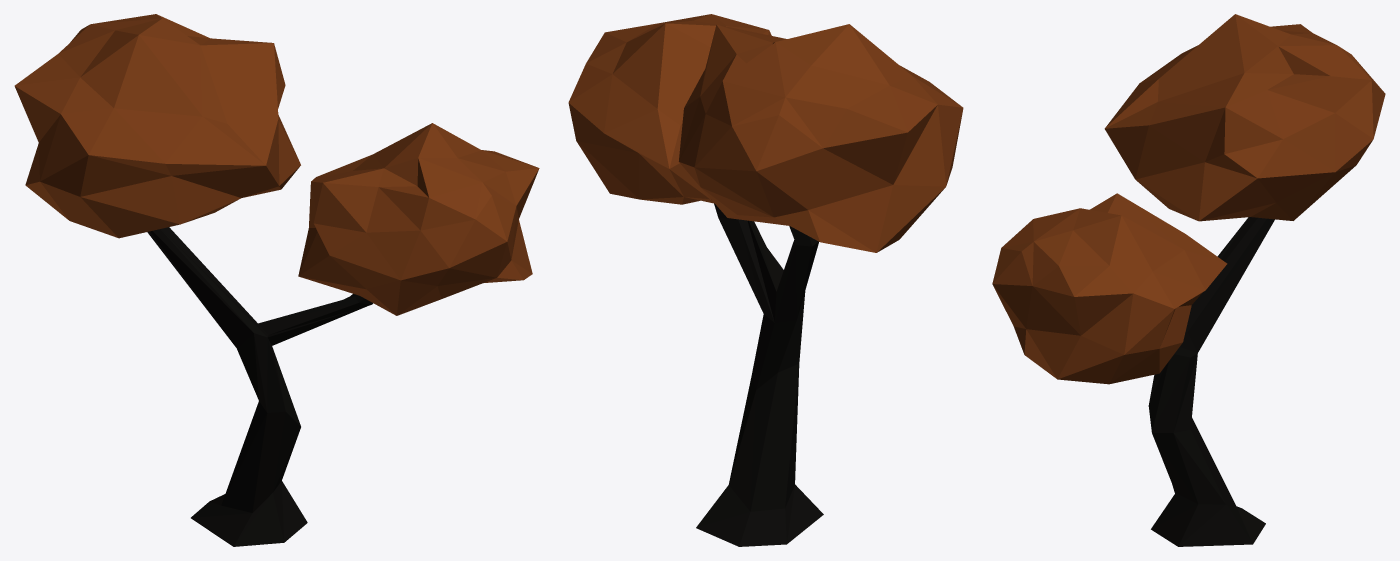
Rendered from KOKS_001.FBX.
3 views of the same model, side by side, from view 1: azimuth 30°, elevation 25°; view 2: azimuth 150°, elevation 25°; view 3: azimuth 270°, elevation 25° (orthographic). The views are drawn at different scales.
Visible parts, largest first — view 1: KOKS_001; view 2: KOKS_001; view 3: KOKS_001.
Boxes of the visible parts, x1=… form: KOKS_001: x1=14, y1=14, x2=539, y2=546; KOKS_001: x1=568, y1=14, x2=963, y2=546; KOKS_001: x1=992, y1=14, x2=1385, y2=546.
Bounding box in the file's own units: 10003 × 11673 × 8843.
